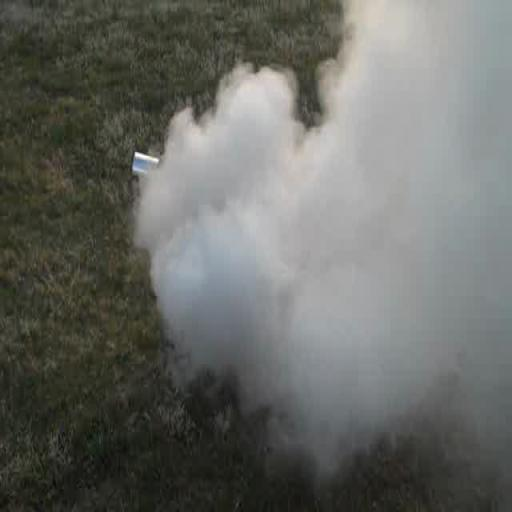smoke: (146, 26, 502, 446), (158, 8, 509, 416)
